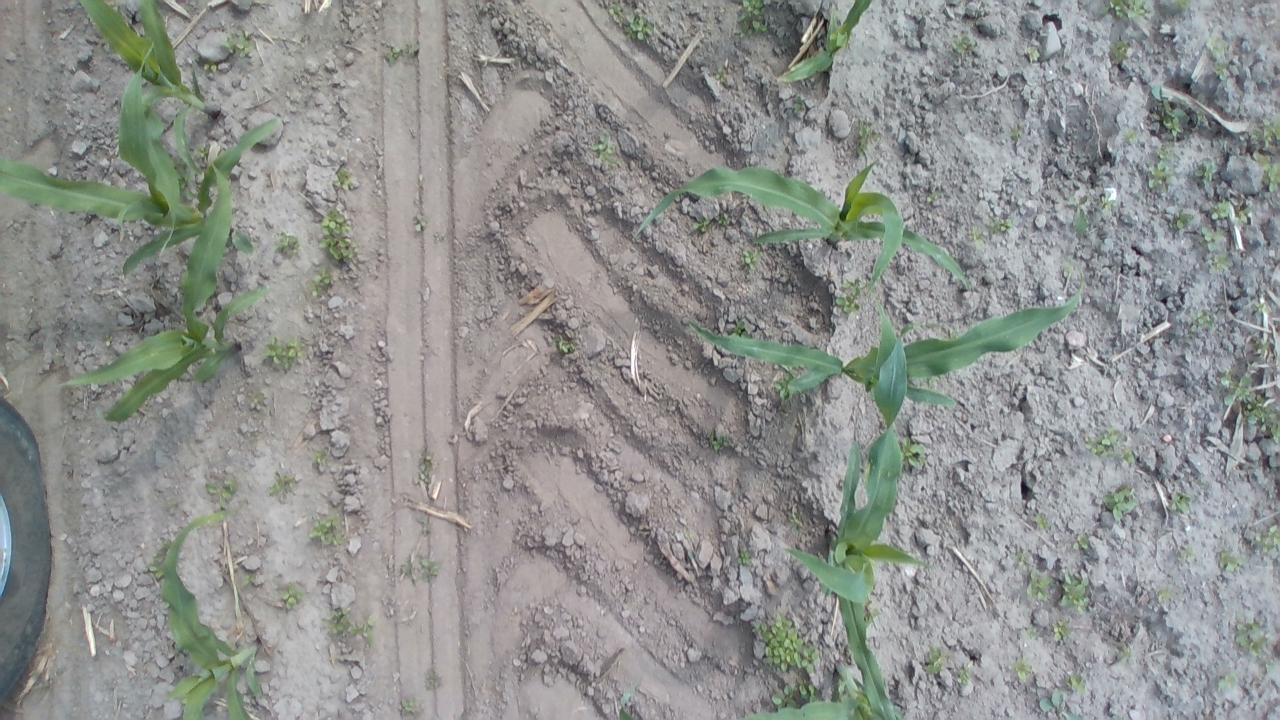Maize: (0, 40, 291, 279), (53, 158, 284, 437), (690, 288, 1088, 419), (626, 154, 970, 300), (784, 419, 930, 720), (154, 503, 270, 720), (72, 2, 230, 141), (772, 0, 883, 88)
Weeds: (756, 614, 820, 672), (320, 205, 360, 266), (1200, 226, 1236, 282), (1150, 84, 1184, 137), (1098, 481, 1143, 520), (332, 610, 376, 649), (768, 678, 824, 707), (1204, 42, 1242, 84), (268, 334, 308, 373), (1146, 148, 1178, 196), (207, 476, 242, 518), (1232, 625, 1270, 661), (1081, 422, 1121, 456), (970, 214, 1016, 243), (626, 10, 660, 48), (1220, 369, 1252, 409), (401, 557, 441, 588), (376, 38, 417, 68), (268, 470, 302, 506), (308, 514, 346, 546), (1250, 398, 1280, 438), (1062, 574, 1092, 614), (1100, 0, 1154, 22), (739, 2, 772, 38), (689, 210, 743, 232), (1038, 693, 1080, 720), (1065, 208, 1096, 244), (770, 501, 806, 532), (834, 280, 864, 316), (946, 34, 984, 62), (1163, 488, 1196, 520), (223, 30, 258, 60), (894, 438, 928, 468), (738, 244, 772, 274), (770, 370, 806, 398), (1024, 568, 1054, 600), (1256, 156, 1280, 195), (414, 452, 440, 488), (1108, 34, 1136, 66), (271, 232, 305, 258), (1194, 156, 1224, 185), (1252, 117, 1280, 148), (1032, 509, 1062, 536), (393, 694, 426, 717), (1210, 201, 1246, 222), (920, 650, 949, 675), (281, 586, 306, 614), (310, 270, 340, 293), (1252, 522, 1280, 546), (710, 430, 738, 454), (330, 167, 358, 191), (593, 132, 614, 164), (552, 330, 576, 358), (1217, 551, 1246, 574), (854, 120, 873, 154), (1019, 37, 1044, 62), (313, 445, 337, 471), (1154, 588, 1178, 613), (1182, 102, 1204, 129), (728, 319, 756, 340), (1112, 640, 1136, 664), (1098, 192, 1121, 217), (1066, 670, 1088, 695), (422, 669, 445, 692), (1215, 669, 1236, 694), (1012, 658, 1032, 684), (787, 97, 817, 114), (952, 660, 971, 684), (1073, 535, 1098, 553), (411, 214, 432, 234), (1052, 622, 1069, 645), (197, 142, 216, 162), (1005, 124, 1025, 142), (1178, 539, 1194, 561), (1175, 210, 1192, 230), (1121, 126, 1138, 146), (241, 570, 262, 586), (924, 190, 942, 207), (736, 550, 751, 570), (1122, 448, 1138, 465)
